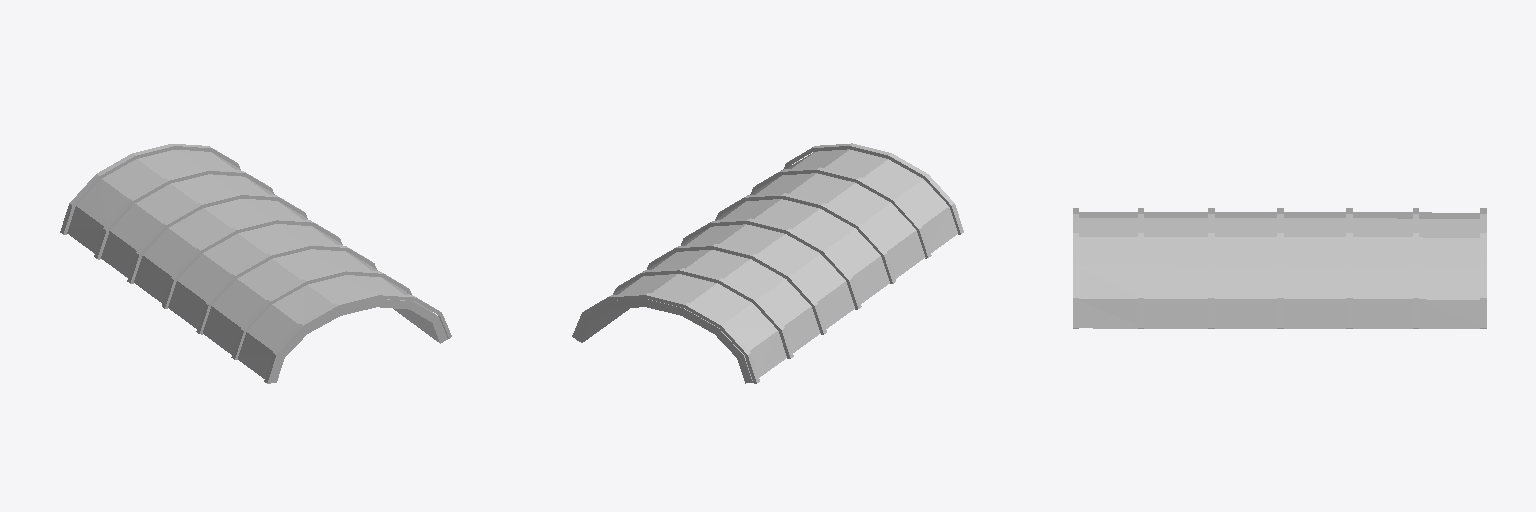
Rendered from roofHP.obj.
3 views of the same model, side by side, from view 1: azimuth 30°, elevation 25°; view 2: azimuth 150°, elevation 25°; view 3: azimuth 270°, elevation 25° (orthographic).
Parts seen in each view (by area): view 1: default; view 2: default; view 3: default.
Part boxes in pixels (bbox=[...]): default: bbox=[60, 144, 451, 383]; default: bbox=[572, 143, 963, 383]; default: bbox=[1073, 208, 1486, 328].
Size of the model in its own units: 9.5 by 3.14 by 18.46.